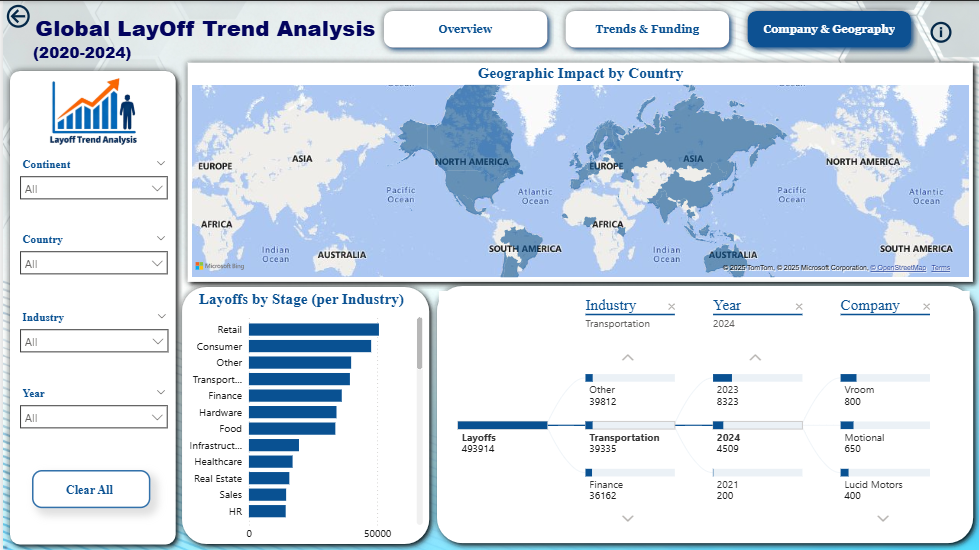

What the dashboard file says about the page in this screenshot:
{"tool":"powerbi","page":{"name":"Company & Geography","canvas":[1280,720],"ordinal":6},"visuals":[{"type":"group","id":"g1","title":"Map","box":[233.1,71.5,1045.5,304.6],"z":0},{"type":"shape","box":[233.1,71.5,1045.5,304.6],"z":0,"group":"g1"},{"type":"shape","box":[0,82,235,638],"z":0,"group":"g4"},{"type":"shape","box":[558.3,363.3,720,355],"z":500,"group":"g3"},{"type":"shape","box":[224.5,364.7,341.8,354.7],"z":500,"group":"g2"},{"type":"filledMap","title":"Geographic Impact by Country ","fields":{"Category":["Tech_layoffs_DB.Country"]},"box":[241.9,82,1027.8,284.4],"z":1000,"group":"g1"},{"type":"slicer","fields":{"Values":["Tech_layoffs_DB.Continent"]},"box":[10,205,215,83],"z":1000,"group":"g4"},{"type":"group","id":"g2","title":"Layoff stage","box":[219.8,364.7,346.6,354.7],"z":1000},{"type":"clusteredBarChart","title":"Layoffs by Stage (per Industry)","fields":{"Category":["Tech_layoffs_DB.Industry"],"Y":["Measure.Total Laid Off"]},"box":[219.8,370.2,341.7,348.3],"z":1000,"group":"g2"},{"type":"decompositionTreeVisual","fields":{"Analyze":["Sum(Tech_layoffs_DB.LaidOff)"],"ExplainBy":["Tech_layoffs_DB.Industry","Calendar.Year","Tech_layoffs_DB.Company"]},"box":[565,374.3,705.1,337.5],"z":1000,"group":"g3"},{"type":"slicer","fields":{"Values":["Tech_layoffs_DB.Country"]},"box":[10,303,215,79],"z":2000,"group":"g4"},{"type":"group","id":"g3","title":"Tree","box":[558.3,363.3,720,355],"z":2000},{"type":"group","id":"g4","title":"Filters panel","box":[0,82,235,638],"z":3000},{"type":"slicer","fields":{"Values":["Tech_layoffs_DB.Industry"]},"box":[11,406,216,82],"z":3000,"group":"g4"},{"type":"shape","title":"Title","box":[31.4,1.5,467.3,66.8],"z":4000,"group":"g5"},{"type":"slicer","fields":{"Values":["Calendar.Year"]},"box":[11,504.3,215,76],"z":4000,"group":"g4"},{"type":"image","title":"Logo","box":[6,61,225,170],"z":5000},{"type":"actionButton","title":"Clear all Filters","box":[38.3,613.3,155,50],"z":6000},{"type":"actionButton","box":[0,0,100,40],"z":7000},{"type":"pageNavigator","box":[490,4.2,710.8,66.8],"z":8000},{"type":"shape","title":"Year title","box":[30.9,32.4,467.3,67.6],"z":8001,"group":"g5"},{"type":"actionButton","title":"FAQ","box":[1200.9,10.3,55,61.7],"z":9000},{"type":"group","id":"g5","title":"Title","box":[30.9,1.5,467.9,98.5],"z":10000}]}

Visuals, with their boxes in screenshot pixels (x1, y1, x2, y2), scaled from the page's 1280x720 canvas onto the 979x550 screenshot:
"Map" group: x1=178, y1=55, x2=978, y2=287
shape: x1=178, y1=55, x2=978, y2=287
shape: x1=0, y1=63, x2=180, y2=549
shape: x1=427, y1=278, x2=978, y2=549
shape: x1=172, y1=279, x2=433, y2=549
"Geographic Impact by Country " filledMap: x1=185, y1=63, x2=971, y2=280
slicer - Tech_layoffs_DB.Continent: x1=8, y1=157, x2=172, y2=220
"Layoff stage" group: x1=168, y1=279, x2=433, y2=549
"Layoffs by Stage (per Industry)" clusteredBarChart: x1=168, y1=283, x2=429, y2=549
decompositionTreeVisual - Sum(Tech_layoffs_DB.LaidOff) x Tech_layoffs_DB.Industry: x1=432, y1=286, x2=971, y2=544
slicer - Tech_layoffs_DB.Country: x1=8, y1=231, x2=172, y2=292
"Tree" group: x1=427, y1=278, x2=978, y2=549
"Filters panel" group: x1=0, y1=63, x2=180, y2=549
slicer - Tech_layoffs_DB.Industry: x1=8, y1=310, x2=174, y2=373
"Title" shape: x1=24, y1=1, x2=381, y2=52
slicer - Calendar.Year: x1=8, y1=385, x2=173, y2=443
"Logo" image: x1=5, y1=47, x2=177, y2=176
"Clear all Filters" actionButton: x1=29, y1=468, x2=148, y2=507
actionButton: x1=0, y1=0, x2=76, y2=31
pageNavigator: x1=375, y1=3, x2=918, y2=54
"Year title" shape: x1=24, y1=25, x2=381, y2=76
"FAQ" actionButton: x1=919, y1=8, x2=961, y2=55
"Title" group: x1=24, y1=1, x2=382, y2=76
